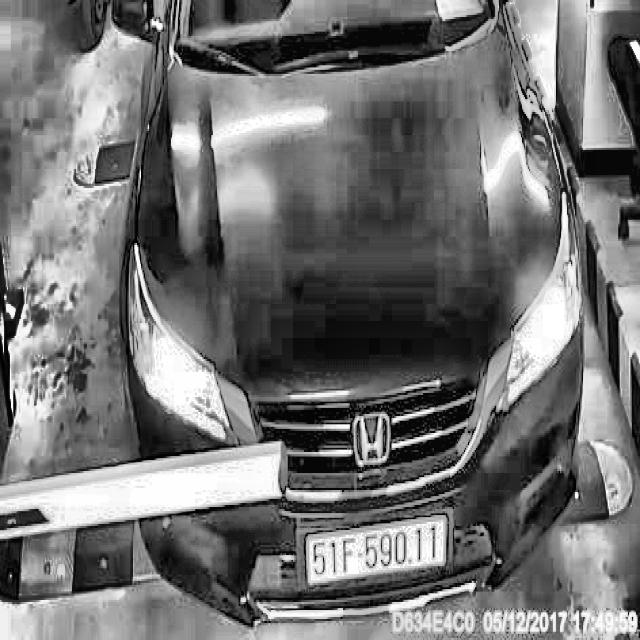plate: (305, 510, 450, 584)
